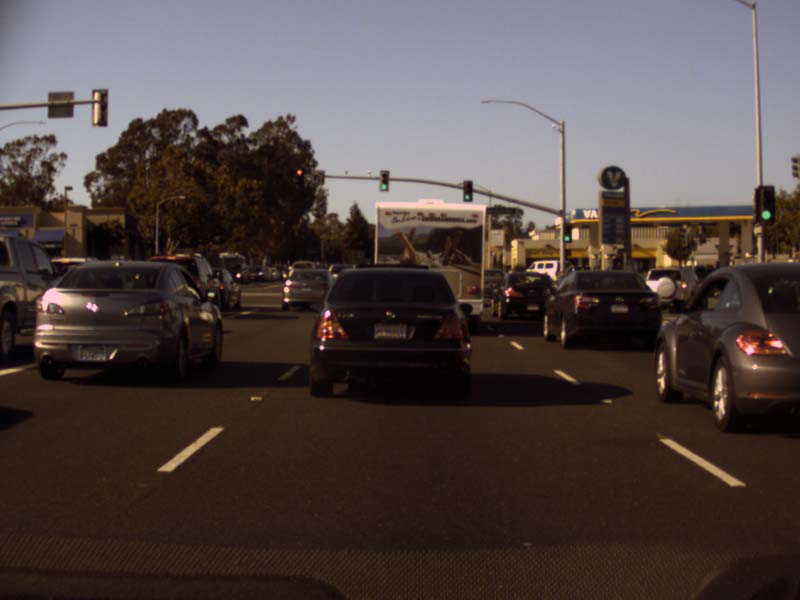Green: (759, 187, 773, 224), (462, 179, 472, 202), (379, 169, 388, 190), (563, 222, 571, 242)
Red: (295, 166, 303, 187)
